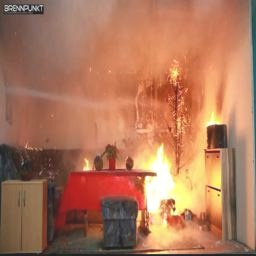fire: (131, 135, 197, 224)
